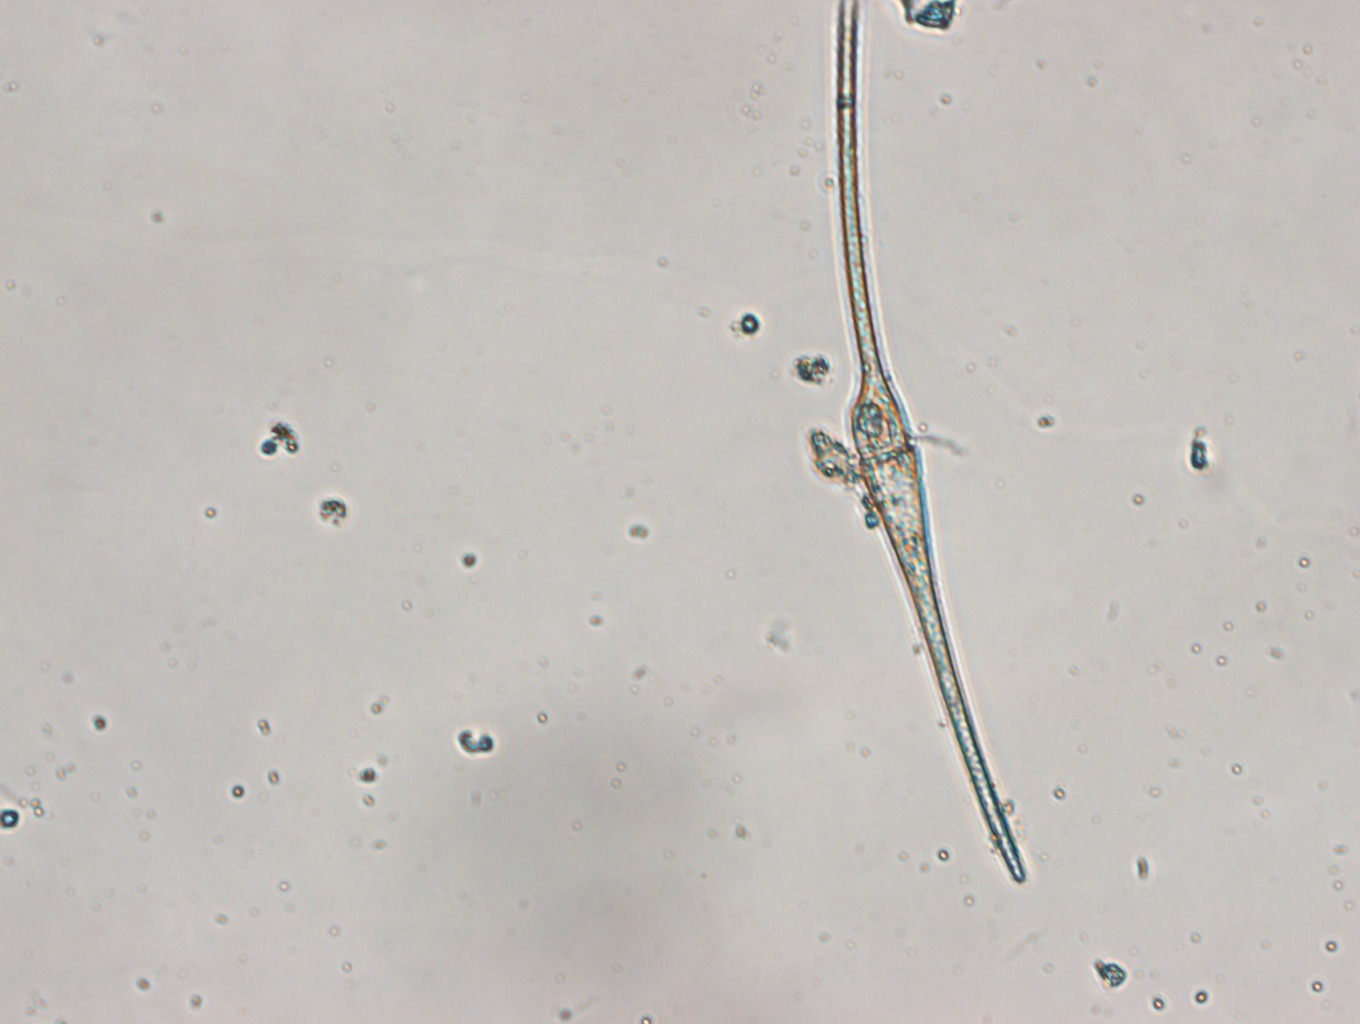ceratium fusus: (836, 1, 1028, 885)
